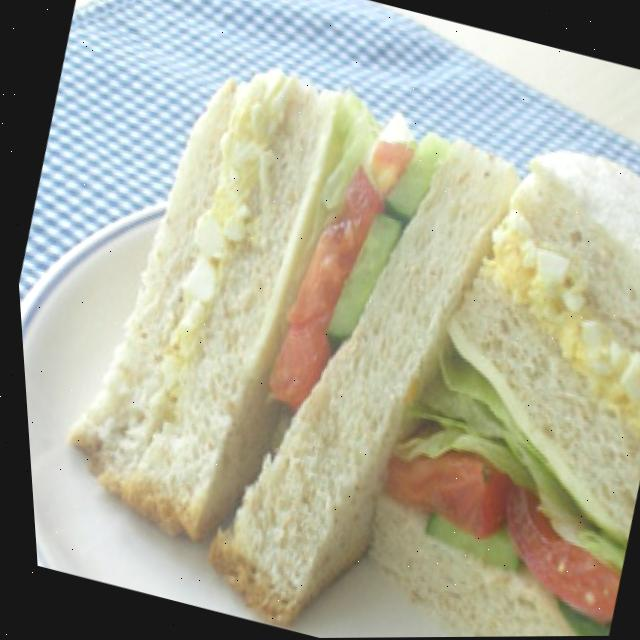三明治: (13, 33, 640, 640)
